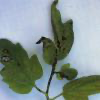Tomato leaf bacterial spot: (1, 36, 43, 95), (37, 0, 72, 67)
